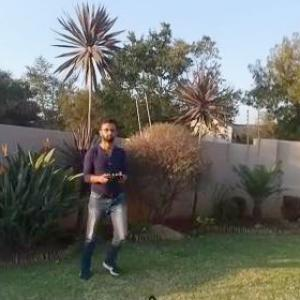follow: (65, 118, 140, 290)
